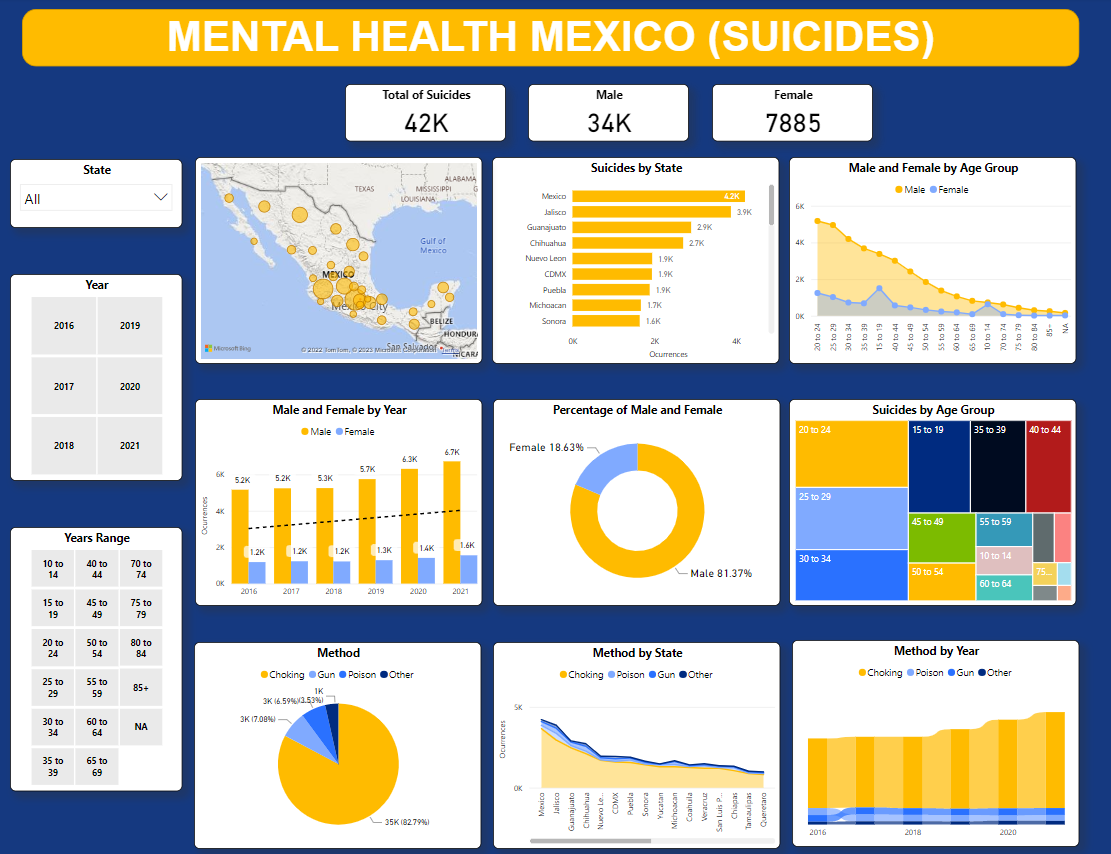

This screenshot's page, from the dashboard's own definition file:
{"tool":"powerbi","page":{"name":"Page 1","canvas":[1550,1200],"ordinal":0},"visuals":[{"type":"slicer","title":"State","fields":{"Values":["Table1.State"]},"box":[16,224,240,96],"z":0},{"type":"clusteredBarChart","title":"Suicides by State","fields":{"Category":["Table1.State"],"Y":["Sum(Table1.Total)"]},"box":[686.3,221.7,400,288],"z":1000},{"type":"slicer","title":"Year","fields":{"Values":["Table1.Year"]},"box":[16,384,240,288],"z":2000},{"type":"lineClusteredColumnComboChart","title":"Male and Female by Year","fields":{"Category":["Table1.Year.Variation.Date Hierarchy.Year"],"Y":["Sum(Table1.Male)","Sum(Table1.Female)"]},"box":[272.3,557.7,400,288],"z":3000},{"type":"donutChart","title":"Percentage of Male and Female","fields":{"Y":["Sum(Table1.Male)","Sum(Table1.Female)"]},"box":[688.3,557.7,400,288],"z":4000},{"type":"map","fields":{"Category":["Table2.State"],"Size":["Sum(Table1.Total)"]},"box":[272.3,221.7,400,288],"z":5000},{"type":"pieChart","title":"Method","fields":{"Y":["Sum(Table2.Choking)","Sum(Table2.Gun)","Sum(Table2.Poison)","Sum(Table2.Other)"]},"box":[272,896,400,288],"z":6000},{"type":"card","title":"Total of Suicides","fields":{"Values":["Sum(Table1.Total)"]},"box":[481,120,224,80],"z":7000},{"type":"areaChart","title":"Male and Female by Age Group","fields":{"Y":["Sum(Table1.Male)","Sum(Table1.Female)"],"Category":["Table1.Years Range"]},"box":[1100.3,221.7,400,288],"z":8000},{"type":"slicer","title":"Years Range","fields":{"Values":["Table1.Years Range"]},"box":[16,736,240,368],"z":9000},{"type":"shape","box":[32,16,1472,80],"z":10000},{"type":"textbox","box":[224,16,1088,96],"z":11000},{"type":"clusteredBarChart","title":"Suicides by Age Group","fields":{"Category":["Table1.Years Range"],"Y":["Sum(Table1.Total)"]},"box":[1100.3,557.7,400,288],"z":12000},{"type":"card","title":"Male","fields":{"Values":["Sum(Table1.Male)"]},"box":[737,120,224,80],"z":13000},{"type":"card","title":"Female","fields":{"Values":["Sum(Table1.Female)"]},"box":[993,120,224,80],"z":14000},{"type":"ribbonChart","title":"Method by Year","fields":{"Y":["Sum(Table2.Choking)","Sum(Table2.Poison)","Sum(Table2.Gun)","Sum(Table2.Other)"],"Category":["Table2.Year.Variation.Date Hierarchy.Year"]},"box":[1105.6,895.6,400,288.9],"z":15000},{"type":"stackedAreaChart","title":"Method by State","fields":{"Category":["Table2.State"],"Y":["Sum(Table2.Choking)","Sum(Table2.Poison)","Sum(Table2.Gun)","Sum(Table2.Other)"]},"box":[688,896,400,288],"z":16000},{"type":"slicer","title":"Year","fields":{"Values":["Table2.Year"]},"box":[16.3,385.7,239.4,286.7],"z":16001}]}

Visuals, with their boxes in screenshot pixels (x1, y1, x2, y2), scaled from the page's 1550x1200 canvas onto the 1111x854 screenshot:
"State" slicer: left=11, top=159, right=183, bottom=228
"Suicides by State" clusteredBarChart: left=492, top=158, right=779, bottom=363
"Year" slicer: left=11, top=273, right=183, bottom=478
"Male and Female by Year" lineClusteredColumnComboChart: left=195, top=397, right=482, bottom=602
"Percentage of Male and Female" donutChart: left=493, top=397, right=780, bottom=602
map - Table2.State x Sum(Table1.Total): left=195, top=158, right=482, bottom=363
"Method" pieChart: left=195, top=638, right=482, bottom=843
"Total of Suicides" card: left=345, top=85, right=505, bottom=142
"Male and Female by Age Group" areaChart: left=789, top=158, right=1075, bottom=363
"Years Range" slicer: left=11, top=524, right=183, bottom=786
shape: left=23, top=11, right=1078, bottom=68
textbox: left=161, top=11, right=940, bottom=80
"Suicides by Age Group" clusteredBarChart: left=789, top=397, right=1075, bottom=602
"Male" card: left=528, top=85, right=689, bottom=142
"Female" card: left=712, top=85, right=872, bottom=142
"Method by Year" ribbonChart: left=792, top=637, right=1079, bottom=843
"Method by State" stackedAreaChart: left=493, top=638, right=780, bottom=843
"Year" slicer: left=12, top=274, right=183, bottom=479
